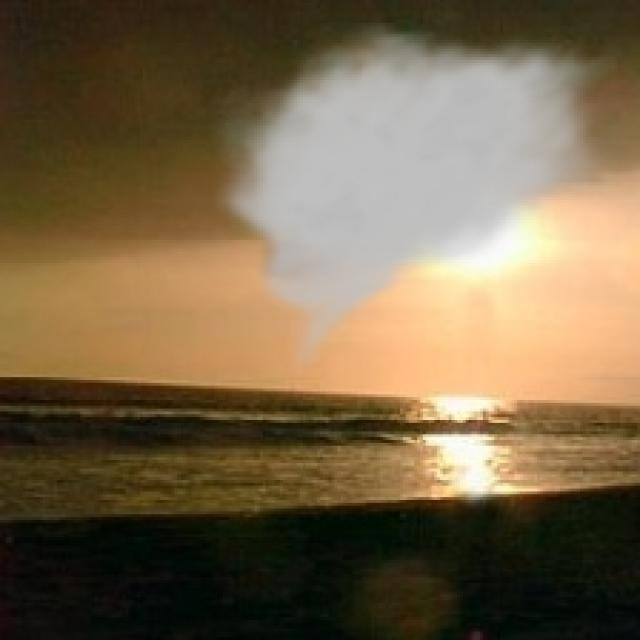Smoke: (208, 23, 620, 380)
